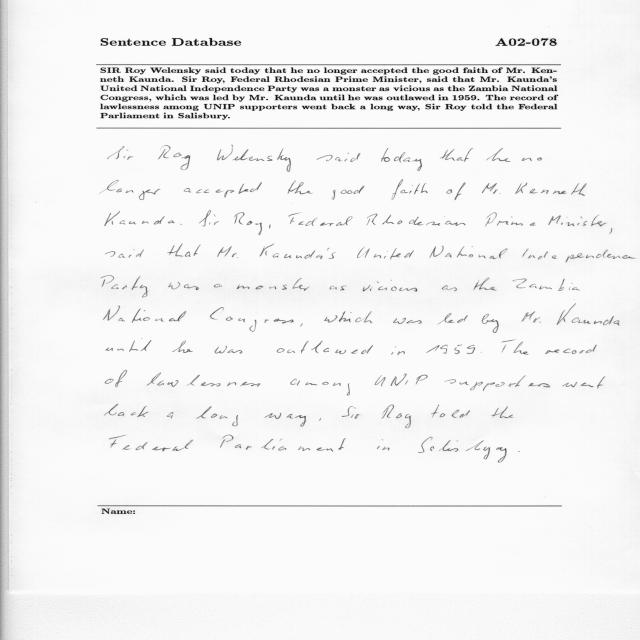word: (220, 435, 346, 452), (210, 307, 294, 332), (217, 145, 291, 172), (147, 372, 260, 387), (445, 375, 550, 391), (260, 244, 370, 259), (522, 249, 636, 263), (418, 437, 490, 459), (104, 306, 187, 323), (556, 304, 620, 326), (110, 435, 193, 451), (277, 341, 373, 354), (367, 214, 466, 226), (184, 182, 262, 197), (108, 180, 161, 200), (290, 379, 350, 396), (430, 246, 508, 259), (101, 276, 149, 297), (237, 278, 310, 291), (381, 148, 422, 171), (515, 183, 587, 196), (105, 211, 165, 226), (196, 407, 238, 427), (289, 213, 353, 226), (158, 145, 191, 170), (513, 279, 580, 291), (485, 212, 535, 227), (392, 180, 428, 200), (375, 374, 428, 387), (382, 405, 411, 428), (548, 215, 607, 226), (363, 280, 417, 292), (234, 212, 262, 235), (324, 311, 373, 323), (264, 413, 306, 427), (562, 376, 605, 389), (105, 404, 148, 417), (106, 340, 152, 352), (431, 405, 470, 418), (373, 248, 414, 260), (545, 345, 597, 354), (440, 148, 473, 162), (332, 186, 365, 200), (167, 244, 201, 257), (426, 345, 475, 354), (502, 340, 529, 355), (317, 153, 361, 162), (105, 370, 127, 387), (446, 183, 466, 201), (108, 146, 133, 160), (486, 148, 511, 162), (106, 249, 144, 258), (438, 313, 468, 324), (288, 181, 313, 194), (482, 314, 499, 333), (199, 211, 219, 227), (474, 278, 497, 291), (172, 340, 193, 353), (217, 246, 238, 258), (492, 406, 513, 418), (168, 282, 199, 290), (342, 406, 360, 419), (214, 346, 243, 354), (522, 311, 541, 323), (482, 183, 501, 194), (496, 447, 507, 463), (393, 318, 422, 324), (377, 440, 390, 451), (391, 347, 405, 355), (442, 285, 457, 291), (330, 286, 347, 291), (522, 157, 542, 161), (168, 220, 182, 225), (167, 412, 174, 419), (214, 284, 222, 287), (609, 228, 612, 234), (269, 225, 271, 229), (301, 323, 303, 327), (319, 418, 321, 421), (480, 352, 482, 352)
